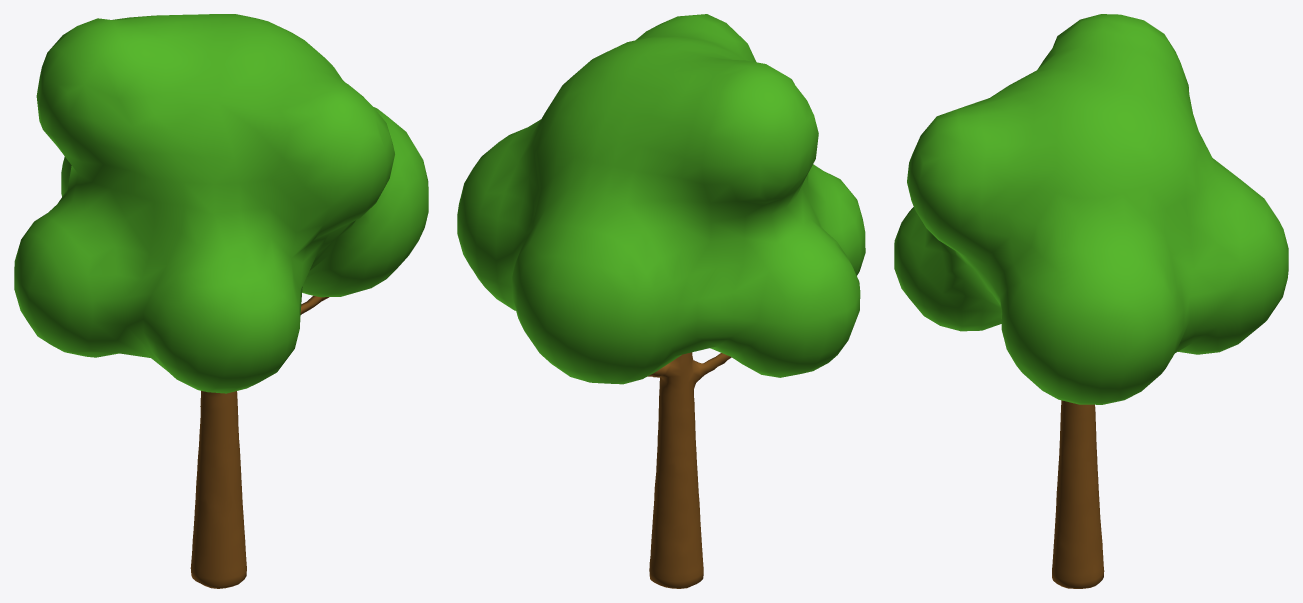
Rendered from tree_1.FBX.
3 views of the same model, side by side, from view 1: azimuth 30°, elevation 25°; view 2: azimuth 150°, elevation 25°; view 3: azimuth 270°, elevation 25° (orthographic). The views are drawn at different scales.
Parts seen in each view (by area): view 1: Recovered_Tool1; view 2: Recovered_Tool1; view 3: Recovered_Tool1.
Boxes of the visible parts, box(x1,y1,x2,y2) form: Recovered_Tool1: box(14, 14, 428, 588); Recovered_Tool1: box(457, 14, 865, 588); Recovered_Tool1: box(894, 14, 1288, 588).
Bounding box in the file's own units: 2056 × 2820 × 1938.
